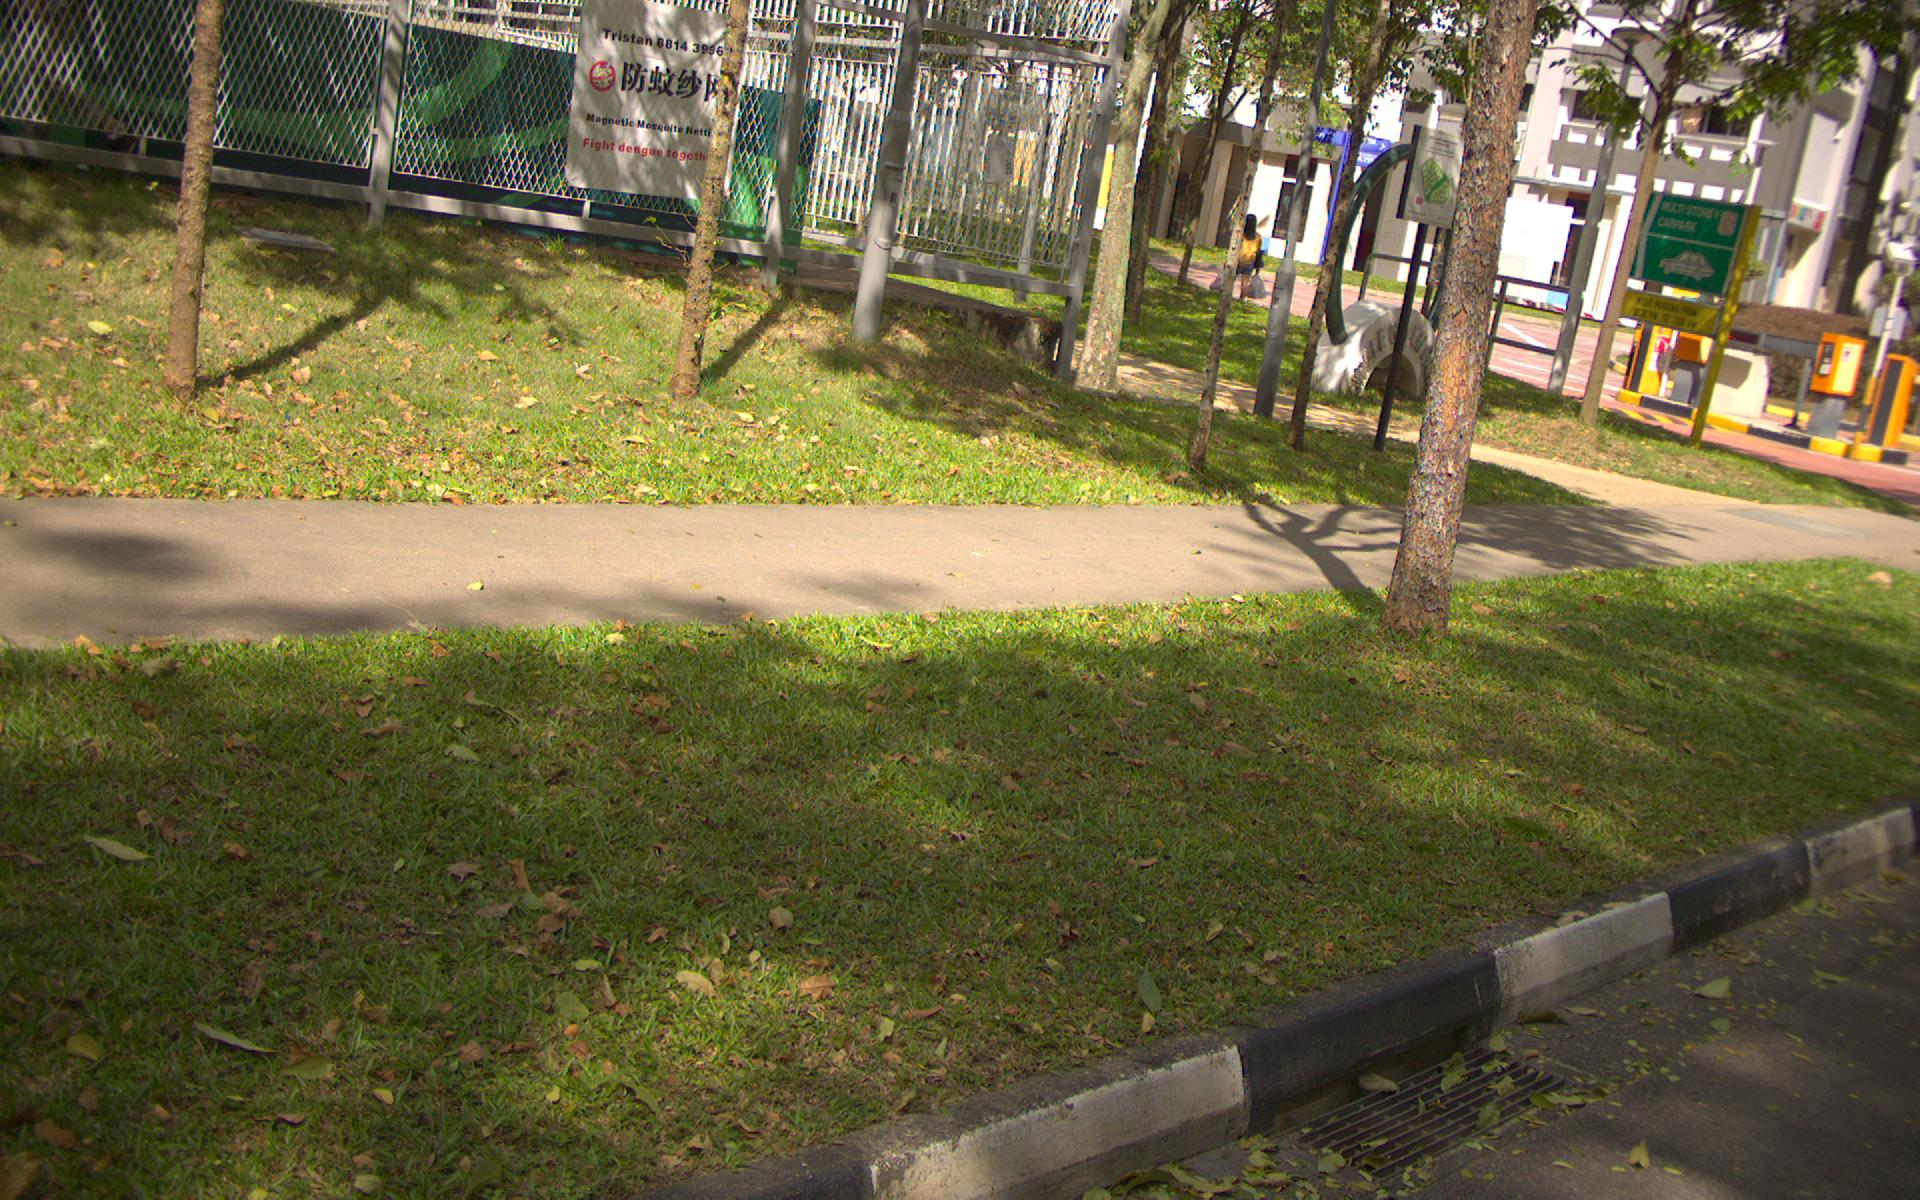curb_dic_low: (1250, 1029, 1597, 1197)
pathway_low: (10, 503, 1402, 586)
road_turf_low: (6, 647, 1186, 1031), (15, 249, 670, 492)
